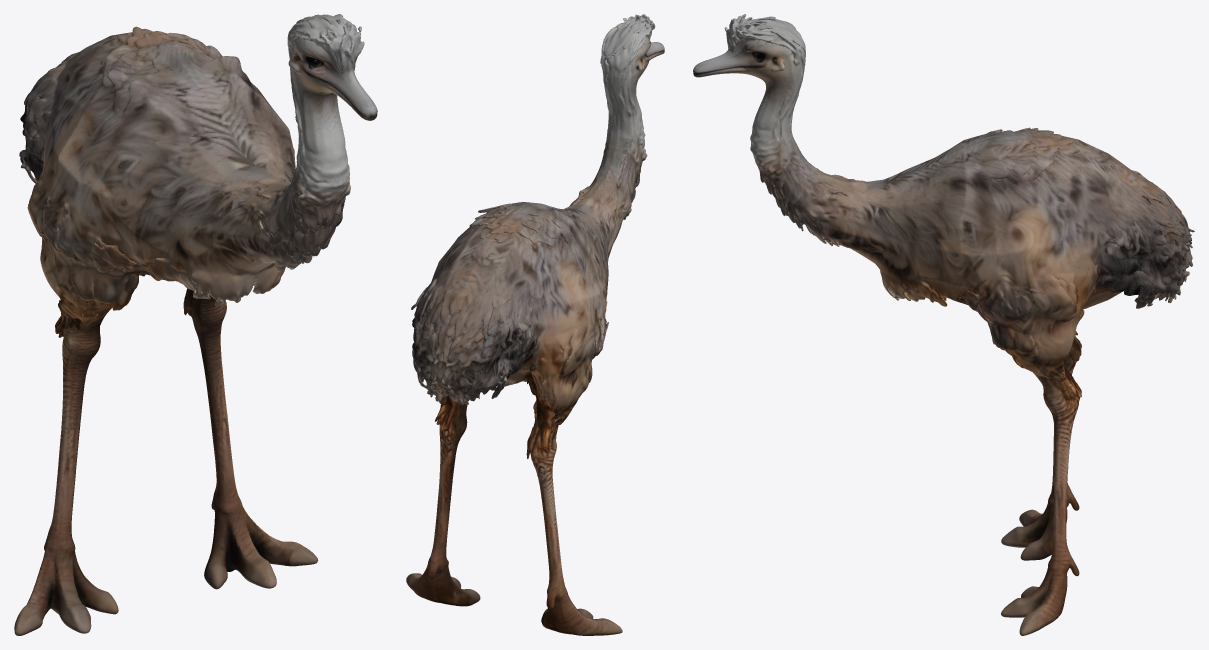
File: tripo.glb
The picture shows the model from 3 angles, left to right: view 1: azimuth 30°, elevation 25°; view 2: azimuth 150°, elevation 25°; view 3: azimuth 270°, elevation 25°; orthographic projection. The views are drawn at different scales.
Parts seen in each view (by area): view 1: tripo_node_7b9d3bdc-d2d4-4fb8-930b-85054a551ec8; view 2: tripo_node_7b9d3bdc-d2d4-4fb8-930b-85054a551ec8; view 3: tripo_node_7b9d3bdc-d2d4-4fb8-930b-85054a551ec8.
Part boxes in pixels (x1=…): tripo_node_7b9d3bdc-d2d4-4fb8-930b-85054a551ec8: x1=14, y1=14, x2=377, y2=635; tripo_node_7b9d3bdc-d2d4-4fb8-930b-85054a551ec8: x1=406, y1=14, x2=664, y2=635; tripo_node_7b9d3bdc-d2d4-4fb8-930b-85054a551ec8: x1=693, y1=14, x2=1194, y2=635.
Bounding box in the file's own units: 0.449 × 1 × 0.8082.
1 material, 1 textured.
